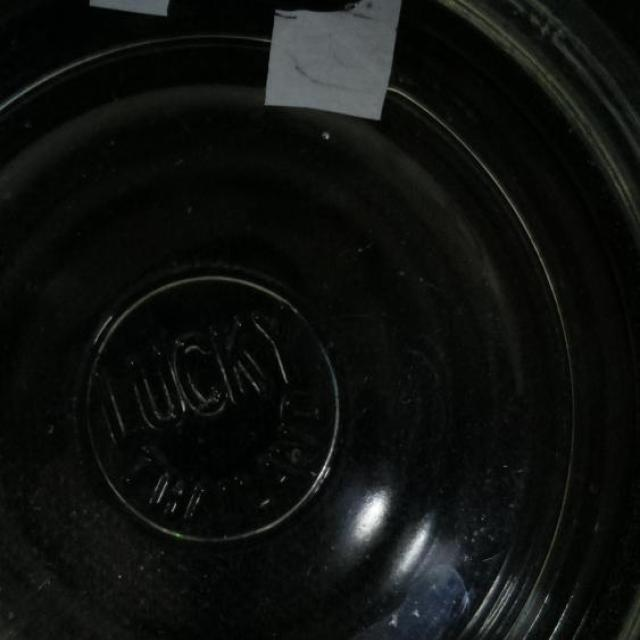fiber: (256, 0, 405, 121), (350, 568, 472, 638), (87, 0, 172, 19)
